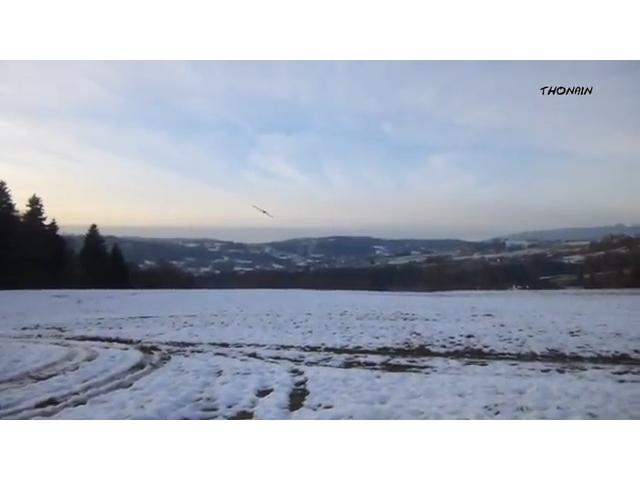Anti-Drone: (254, 205, 272, 218)
